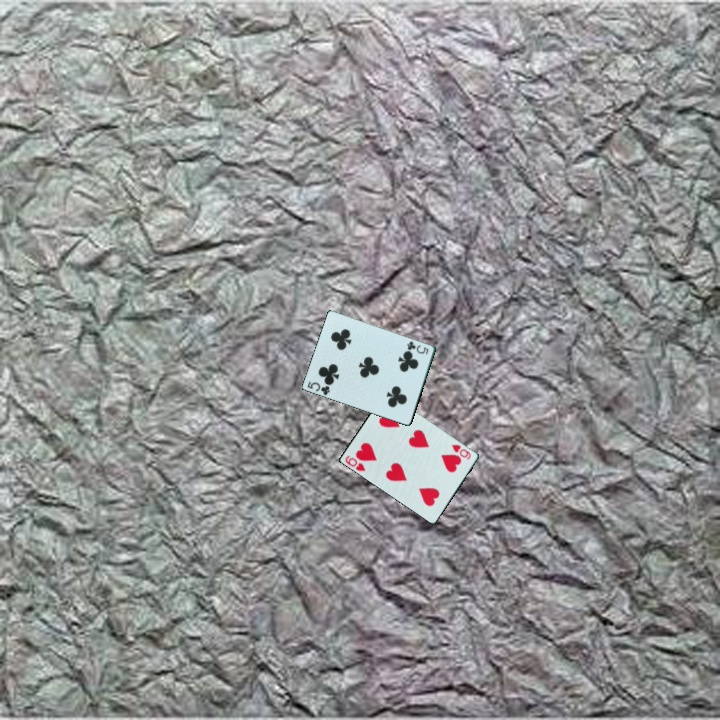5c: (304, 378, 333, 398), (404, 338, 432, 357)
6h: (342, 452, 369, 474), (448, 441, 474, 462)
